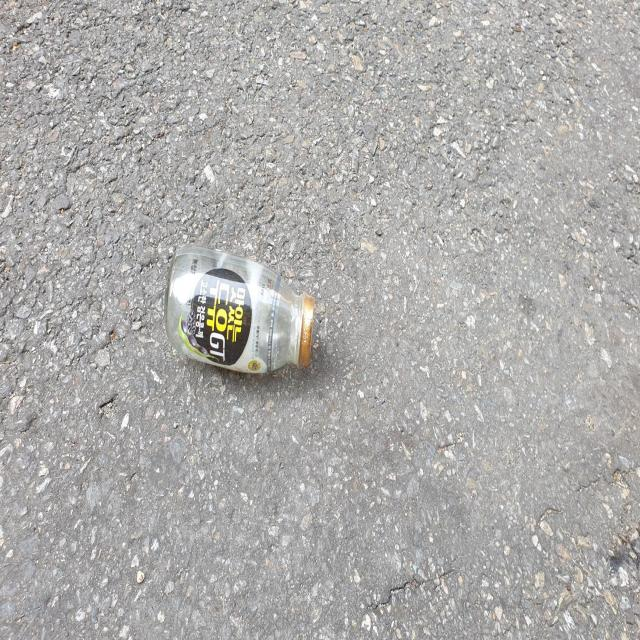glass: (164, 247, 314, 372)
